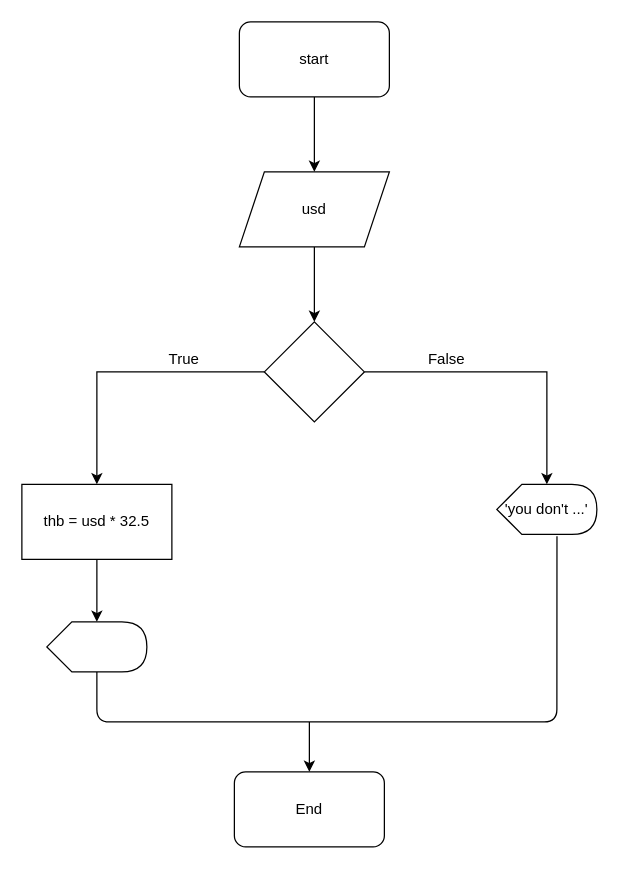
Some shapes in this 619 by 869 pixel diagram are drawn without their labels. Here are the shapes that lost their labels. From the top down, the box of each, then its label:
(263, 321, 364, 422): usd > 0
(46, 621, 147, 672): thb
